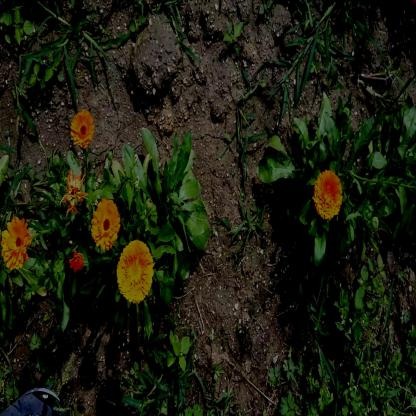marigold: (116, 240, 152, 304), (2, 219, 31, 272), (314, 170, 342, 219), (92, 201, 118, 252), (70, 107, 92, 146)
